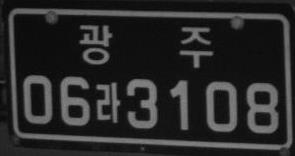0: (205, 80, 239, 133), (21, 73, 54, 125)
1: (166, 79, 198, 131)
3: (125, 77, 158, 129)
6: (59, 74, 92, 127)
8: (245, 81, 279, 134)
광주_D: (78, 23, 214, 69)
라: (95, 81, 120, 124)
